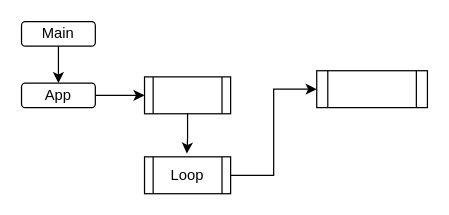
Image size: 449x215. Some labels were removed from this diagram. The centre of each missing label's shape, as x and y in pixels:
Initiate: the point at 187,95
Shotdown: the point at 371,88
